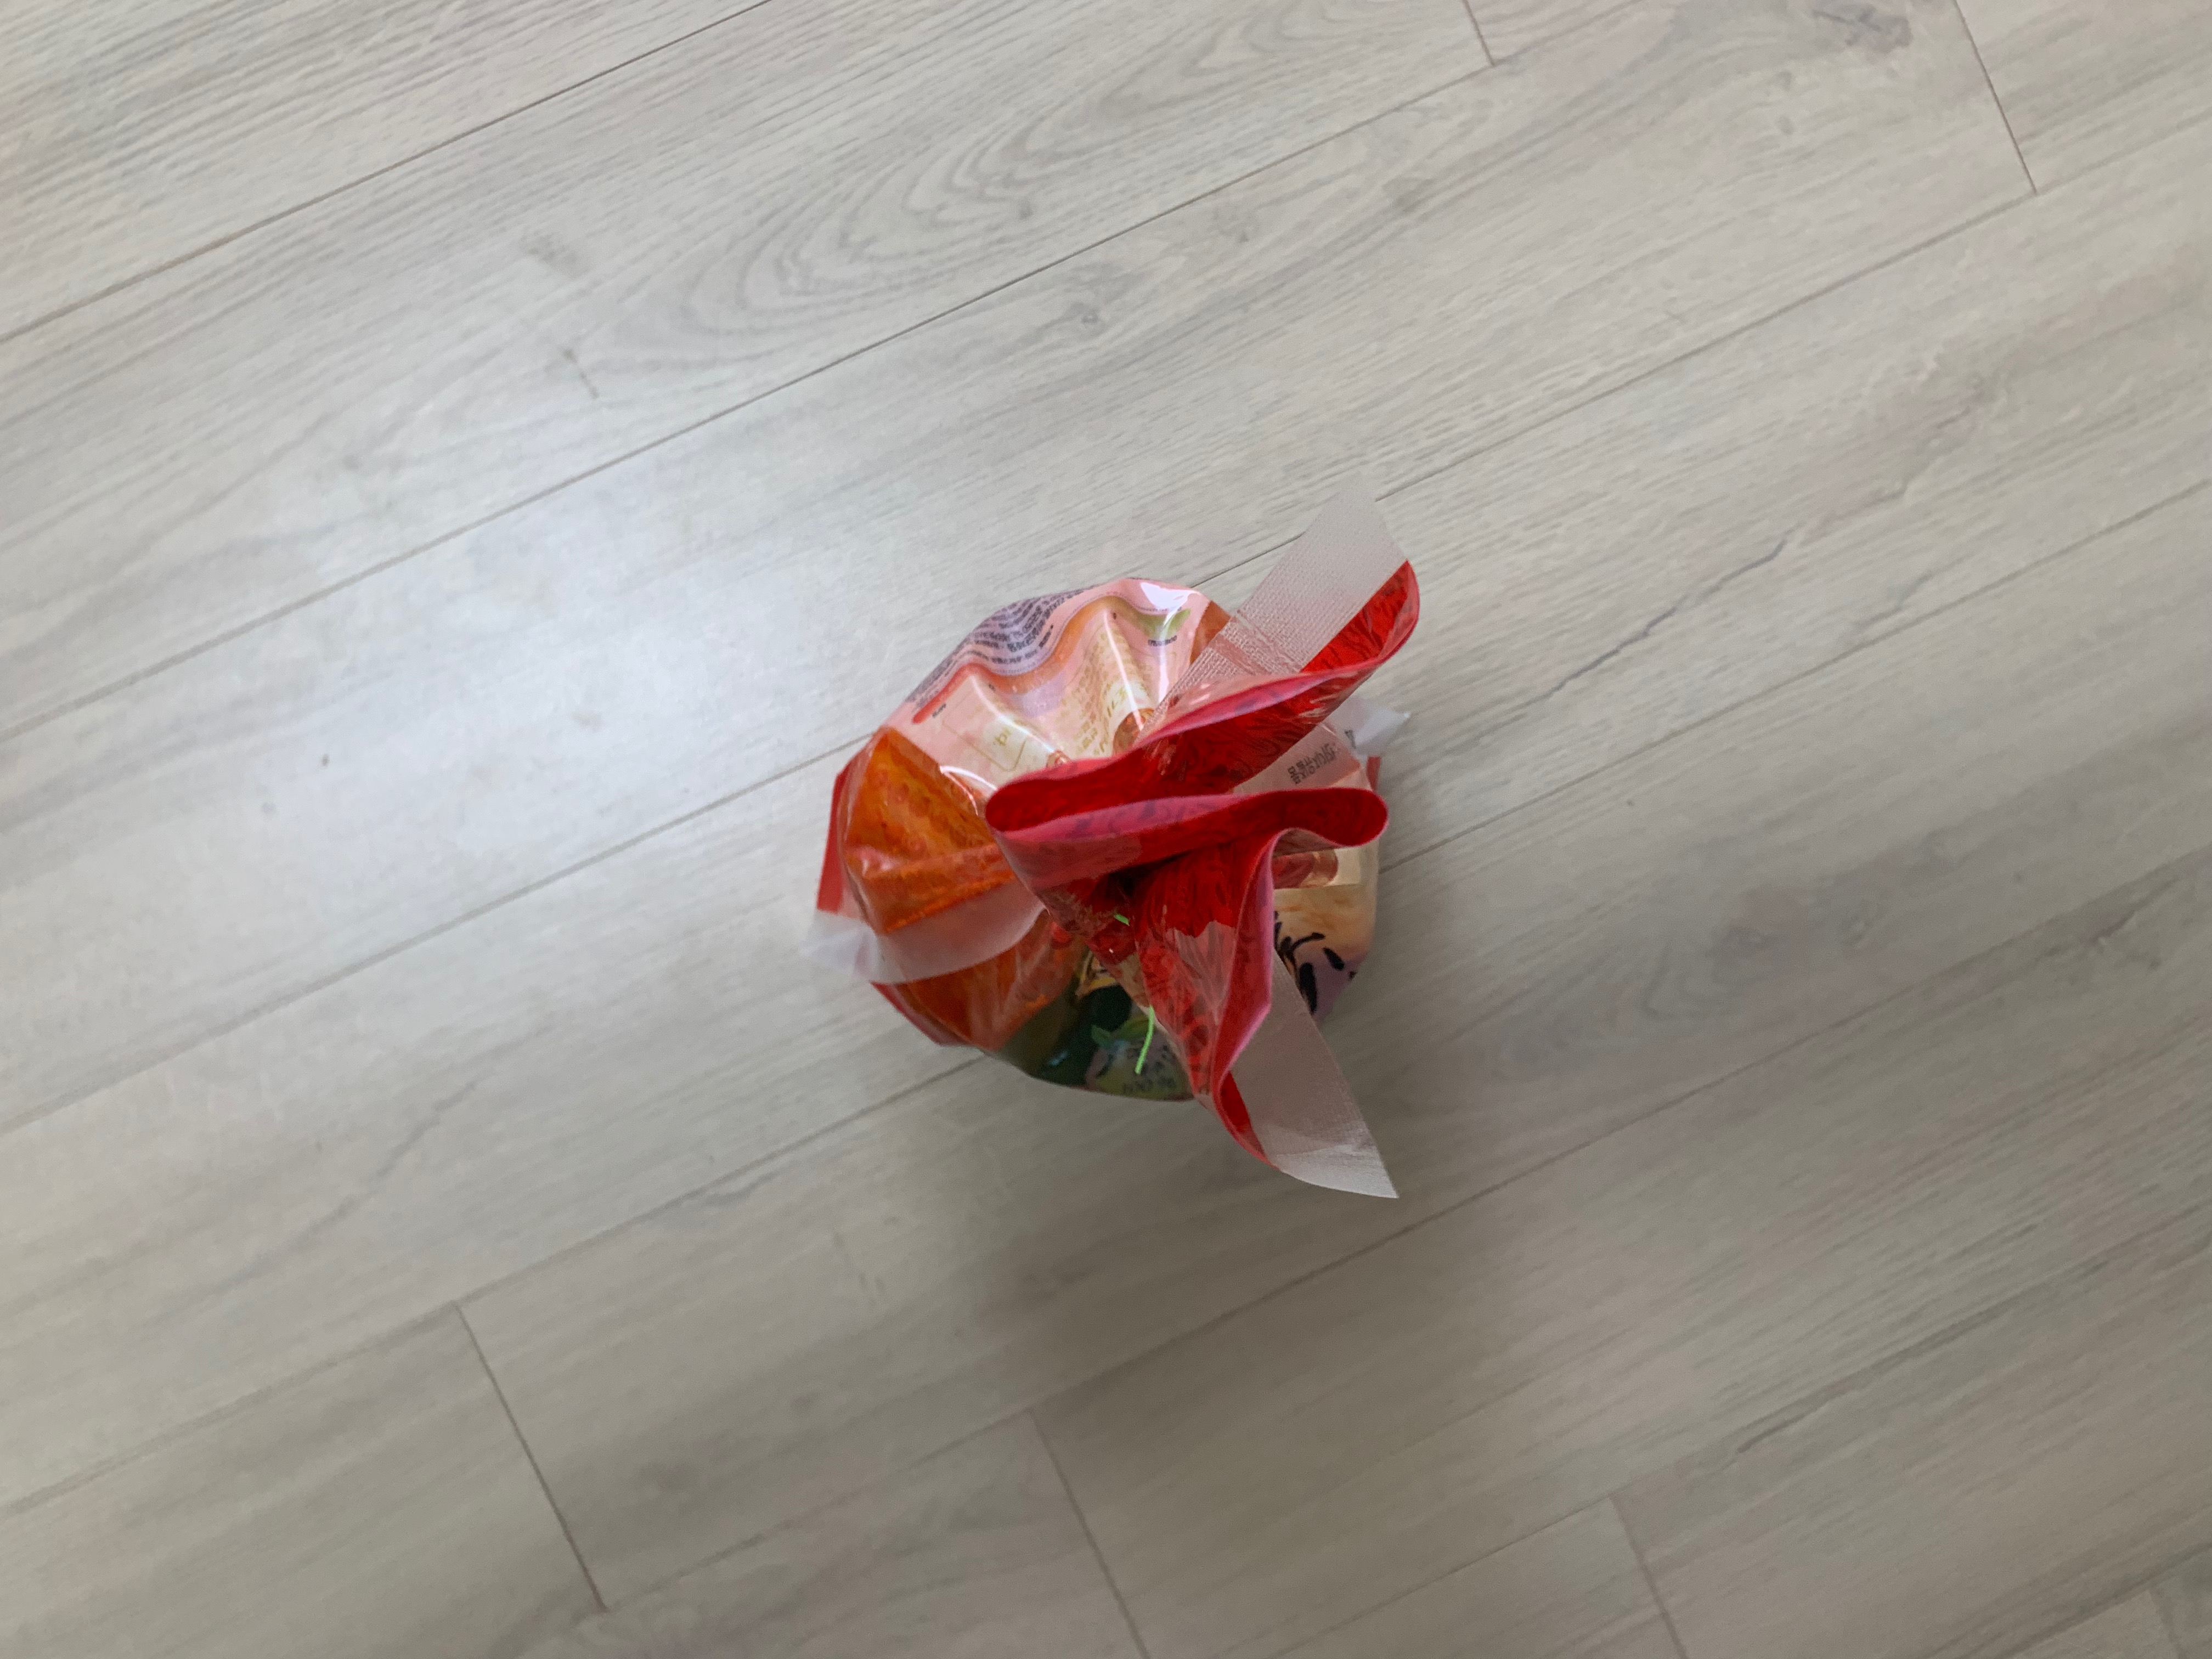kimchi: (819, 582, 1393, 1166)
